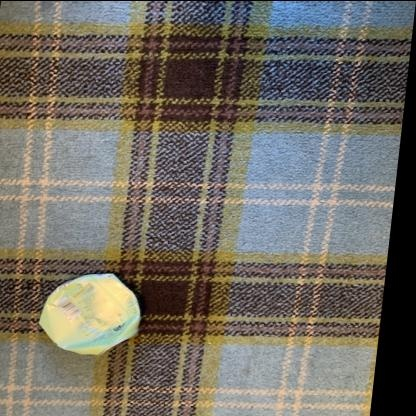trash: (39, 274, 139, 354)
